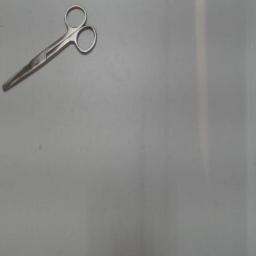Dressing Scissors: (0, 0, 102, 98)
